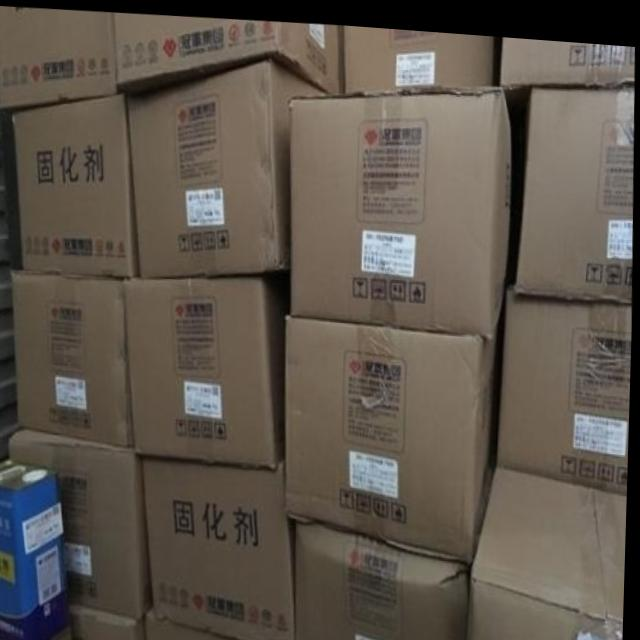box: (288, 78, 511, 331), (286, 309, 497, 554), (128, 54, 328, 274), (123, 265, 291, 463), (473, 458, 630, 640), (499, 271, 633, 484), (145, 455, 299, 640), (11, 429, 156, 616), (517, 76, 634, 293), (13, 91, 140, 276), (12, 264, 135, 443), (298, 517, 472, 640), (112, 10, 343, 93), (0, 6, 116, 107), (343, 20, 495, 86), (500, 29, 634, 81), (148, 607, 250, 640), (74, 600, 149, 640)
